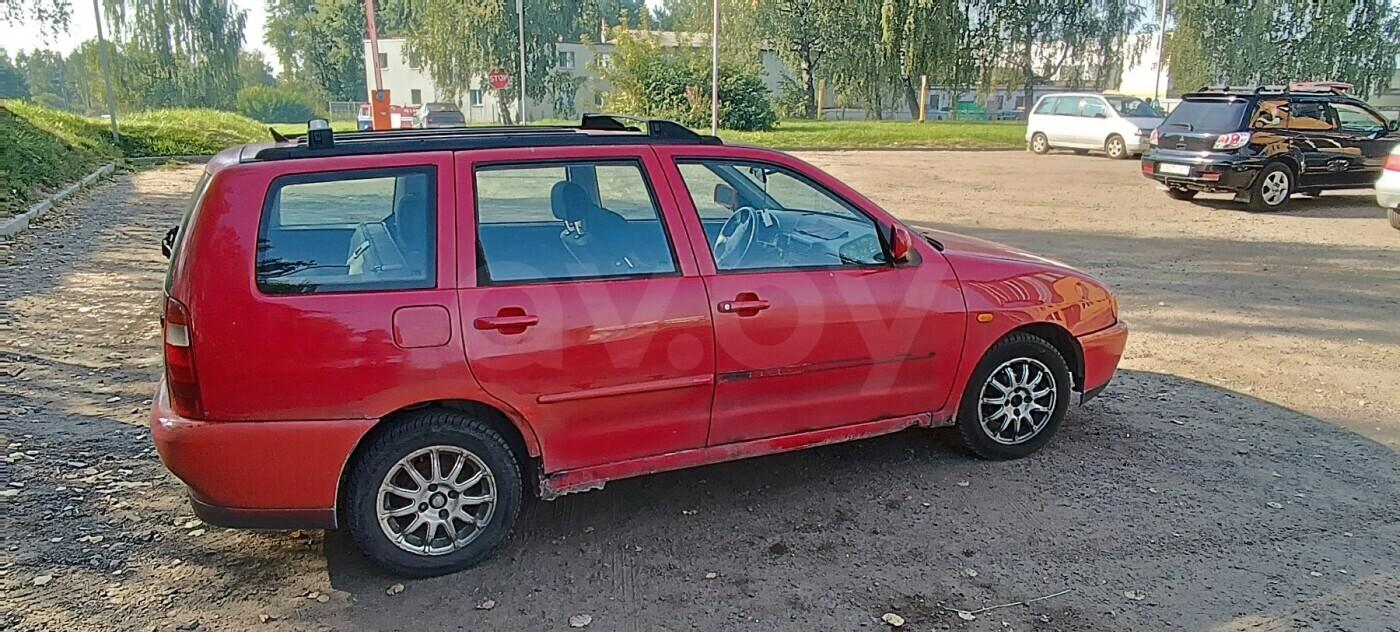Polo_1994-2002: (156, 126, 1142, 579)
